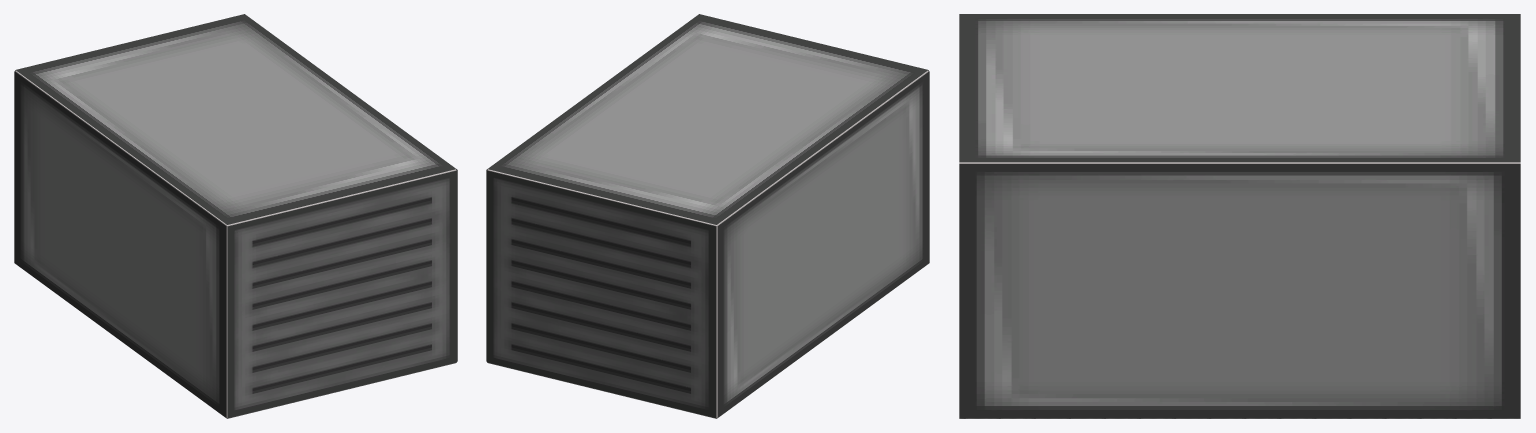
File: freezer.obj
3 renders of one model, left to right at view 1: azimuth 30°, elevation 25°; view 2: azimuth 150°, elevation 25°; view 3: azimuth 270°, elevation 25°, orthographic. The views are drawn at different scales.
Parts seen in each view (by area): view 1: Freezer2, Freezer6, Freezer4, Freezer1; view 2: Freezer2, Freezer7, Freezer4, Freezer1; view 3: Freezer5, Freezer2, Freezer1, Freezer3.
Boxes of the visible parts, <box> form: Freezer2: <box>16,14,455,224</box>; Freezer6: <box>227,170,456,418</box>; Freezer4: <box>14,71,226,417</box>; Freezer1: <box>15,70,456,417</box>; Freezer2: <box>488,14,927,224</box>; Freezer7: <box>487,170,716,418</box>; Freezer4: <box>717,71,929,417</box>; Freezer1: <box>487,70,928,417</box>; Freezer5: <box>959,164,1520,418</box>; Freezer2: <box>959,14,1520,162</box>; Freezer1: <box>959,162,1520,163</box>; Freezer3: <box>959,418,1520,418</box>.
Bounding box in the file's own units: 5.04 × 4.04 × 8.04.
Materials: 4 (3 with a texture image).
